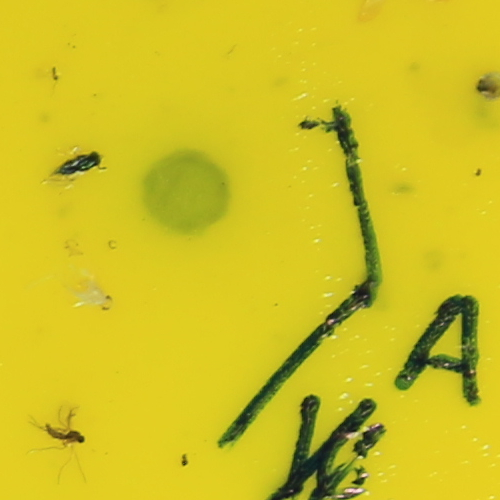Psyllaephagus: (59, 148, 106, 179)
